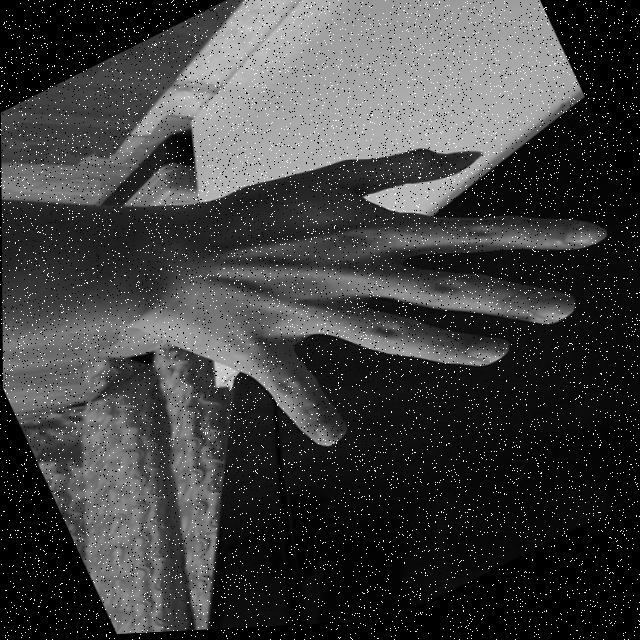no-gloves: (114, 61, 638, 508)
